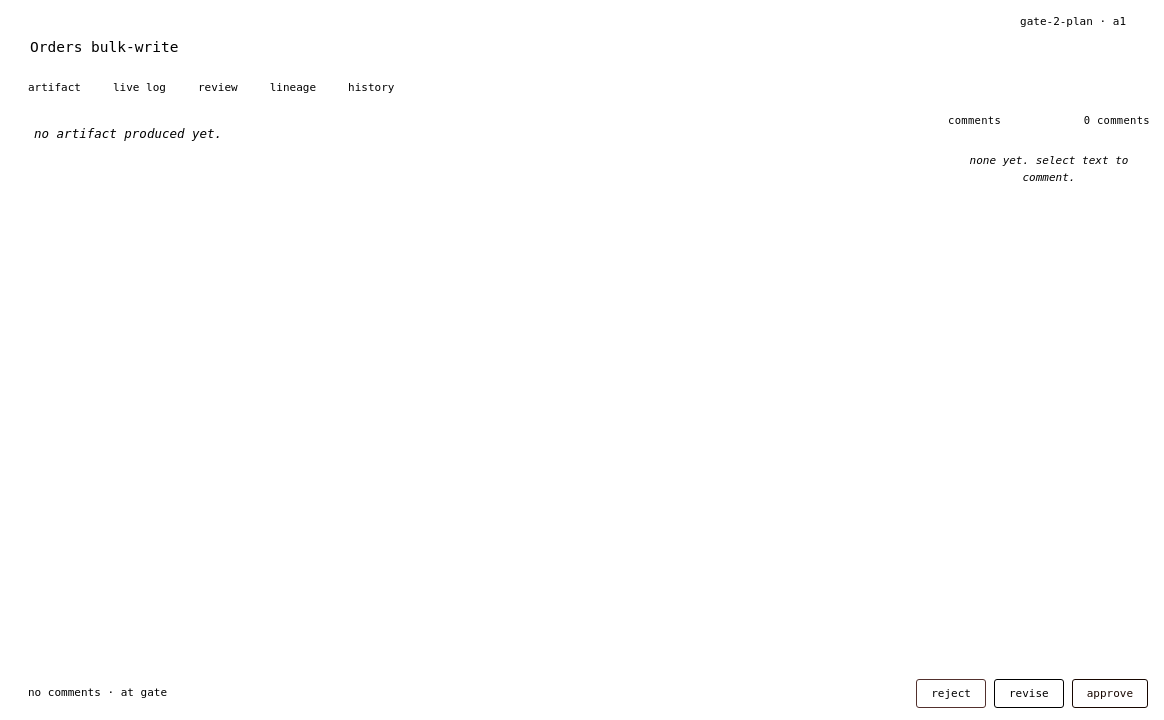
Test case: CardDrawer › renders an error treatment when the log contains an error (S1)
What coordinates should you click on to do the following:
click the tab "live log"
I would click on:
 (140, 88)
Its box is [97,72,182,103].
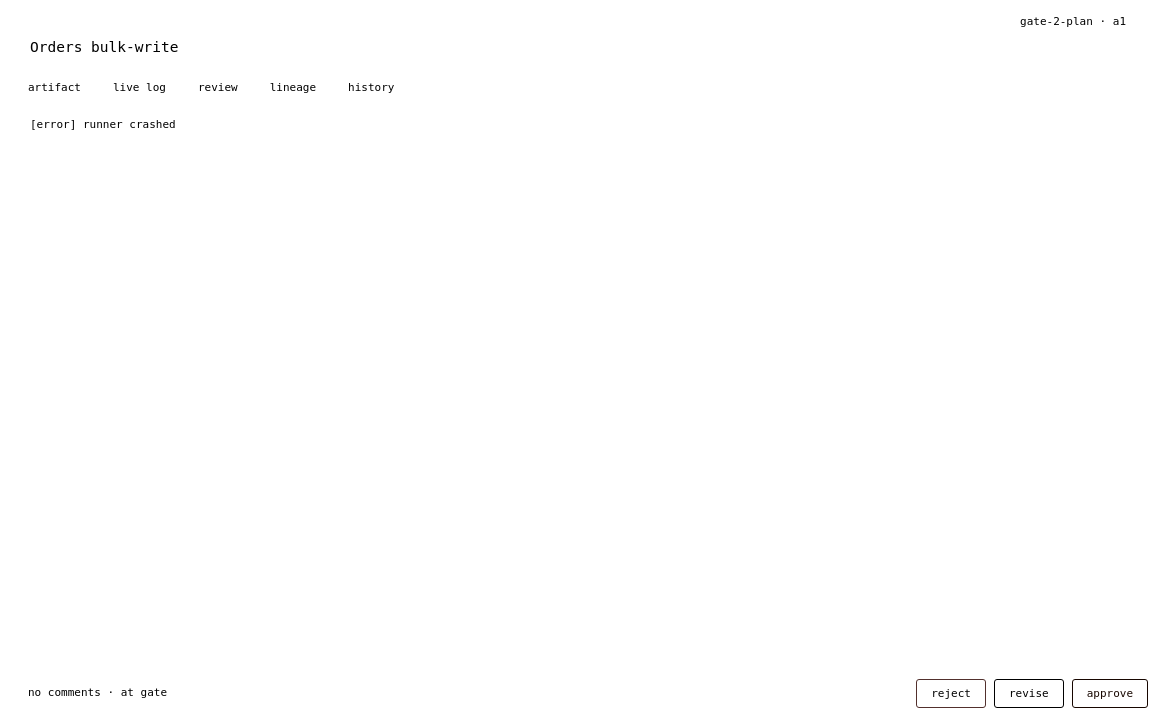
Expected: the message shows "runner crashed", [30,118,176,131]
